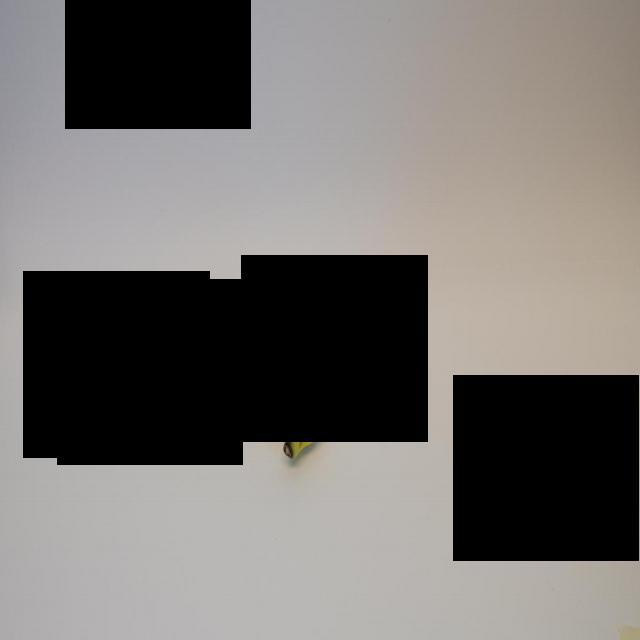banana: (152, 285, 333, 467)
